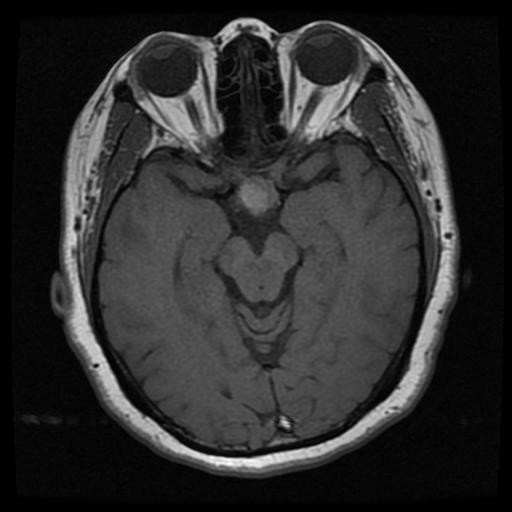Tumour-Pituitary: (238, 167, 280, 224)
